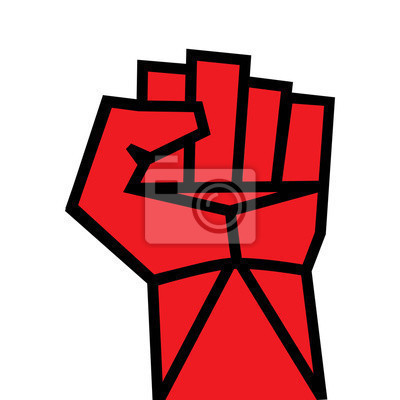closedhandfront: (56, 40, 345, 281)
